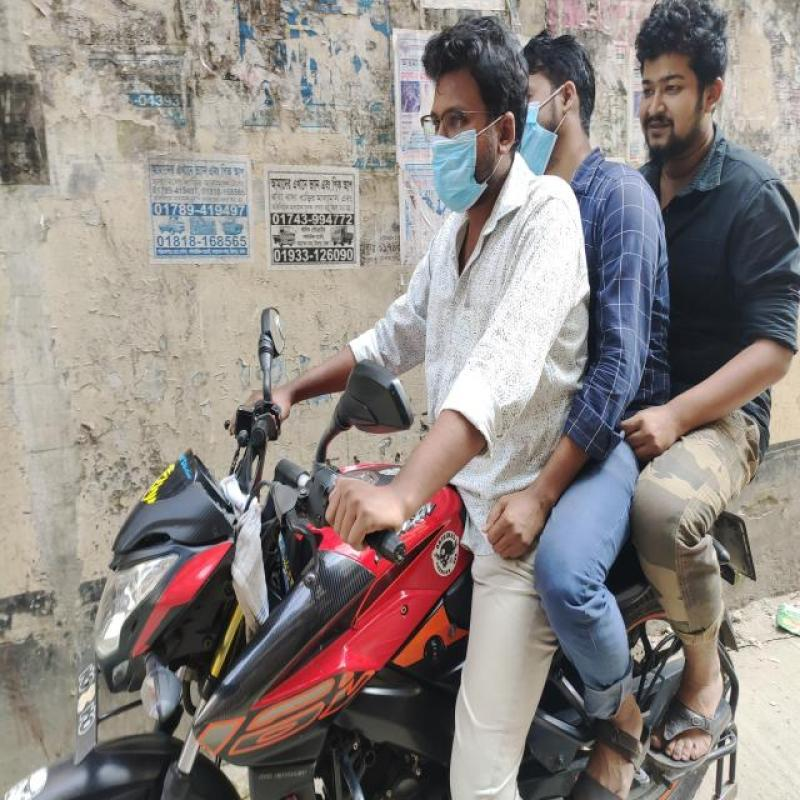nohelmet: (413, 28, 518, 220), (629, 12, 740, 188)
